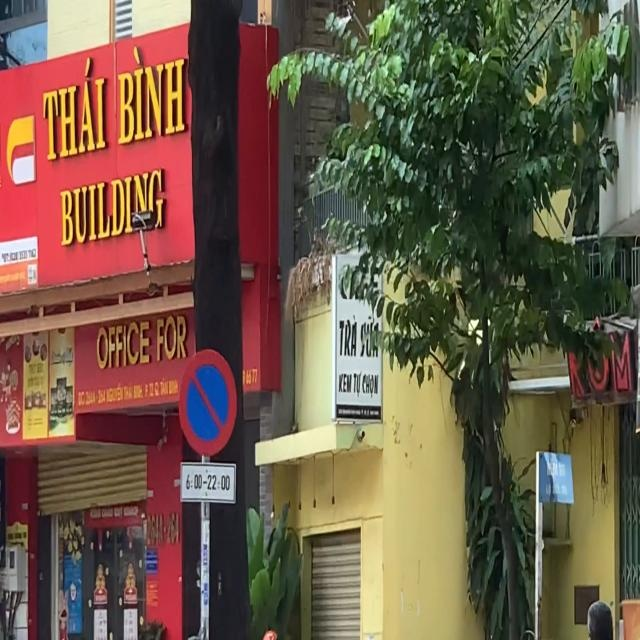bien_cam: (177, 350, 240, 457)
